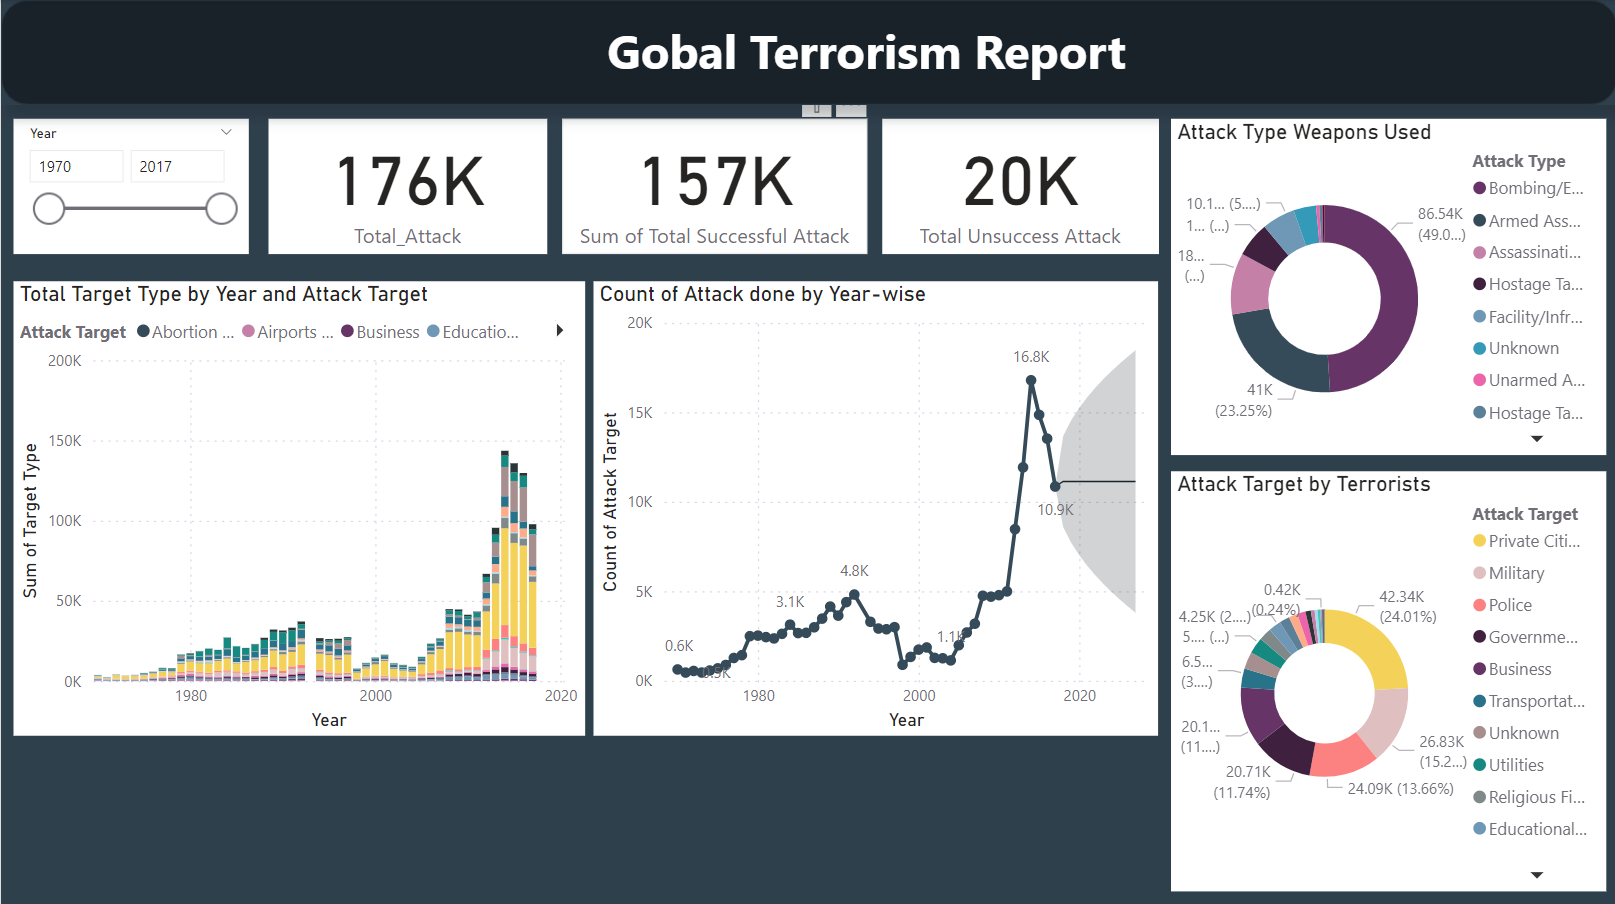

Layout of this report page (visuals, bound fields, positions):
{"tool":"powerbi","page":{"name":"Dashboard","canvas":[1280,720],"ordinal":0},"visuals":[{"type":"card","fields":{"Values":["globalterrorismdb.Total_Attack"]},"box":[211.9,94.1,220.8,106.9],"z":0},{"type":"card","fields":{"Values":["Sum(globalterrorismdb.success)"]},"box":[444.6,94.1,241.6,106.9],"z":1000},{"type":"columnChart","title":"Total Target Type by Year and Attack Target","fields":{"Category":["globalterrorismdb.Date.Variation.Date Hierarchy.Year"],"Series":["globalterrorismdb.targtype1_txt"],"Y":["Sum(globalterrorismdb.targtype1)"]},"box":[9.9,222.8,452.5,360.4],"z":2000},{"type":"card","fields":{"Values":["globalterrorismdb.Total_Unsuccess"]},"box":[698,94.1,218.8,106.9],"z":3000},{"type":"slicer","fields":{"Values":["globalterrorismdb.Date.Variation.Date Hierarchy.Year"]},"box":[9.9,94.1,186.1,106.9],"z":4000},{"type":"shape","box":[0,0,1280.2,83.2],"z":5000},{"type":"textbox","box":[469.3,9.9,432.7,62.4],"z":6000},{"type":"donutChart","title":"Attack Type Weapons Used","fields":{"Category":["globalterrorismdb.Attack Type"],"Y":["CountNonNull(globalterrorismdb.Attack Type)"]},"box":[926.7,94.1,344.6,266.3],"z":7000},{"type":"donutChart","title":"Attack Target by Terrorists","fields":{"Category":["globalterrorismdb.Attack Target"],"Y":["CountNonNull(globalterrorismdb.Attack Target)"]},"box":[926.7,373.3,344.6,332.7],"z":8000},{"type":"lineChart","title":"Count of Attack done by Year-wise","fields":{"Y":["CountNonNull(globalterrorismdb.Attack Target)"],"Category":["globalterrorismdb.Date.Variation.Date Hierarchy.Year"]},"box":[469.3,222.8,447.5,360.4],"z":9000}]}

Visuals, with their boxes in screenshot pixels (x1, y1, x2, y2), scaled from the page's 1280x720 canvas onto the 1615x904 screenshot:
card - globalterrorismdb.Total_Attack: 267 118 546 252
card - Sum(globalterrorismdb.success): 561 118 866 252
"Total Target Type by Year and Attack Target" columnChart: 12 280 583 732
card - globalterrorismdb.Total_Unsuccess: 881 118 1157 252
slicer - globalterrorismdb.Date.Variation.Date Hierarchy.Year: 12 118 247 252
shape: 0 0 1614 104
textbox: 592 12 1138 91
"Attack Type Weapons Used" donutChart: 1169 118 1604 453
"Attack Target by Terrorists" donutChart: 1169 469 1604 886
"Count of Attack done by Year-wise" lineChart: 592 280 1157 732
